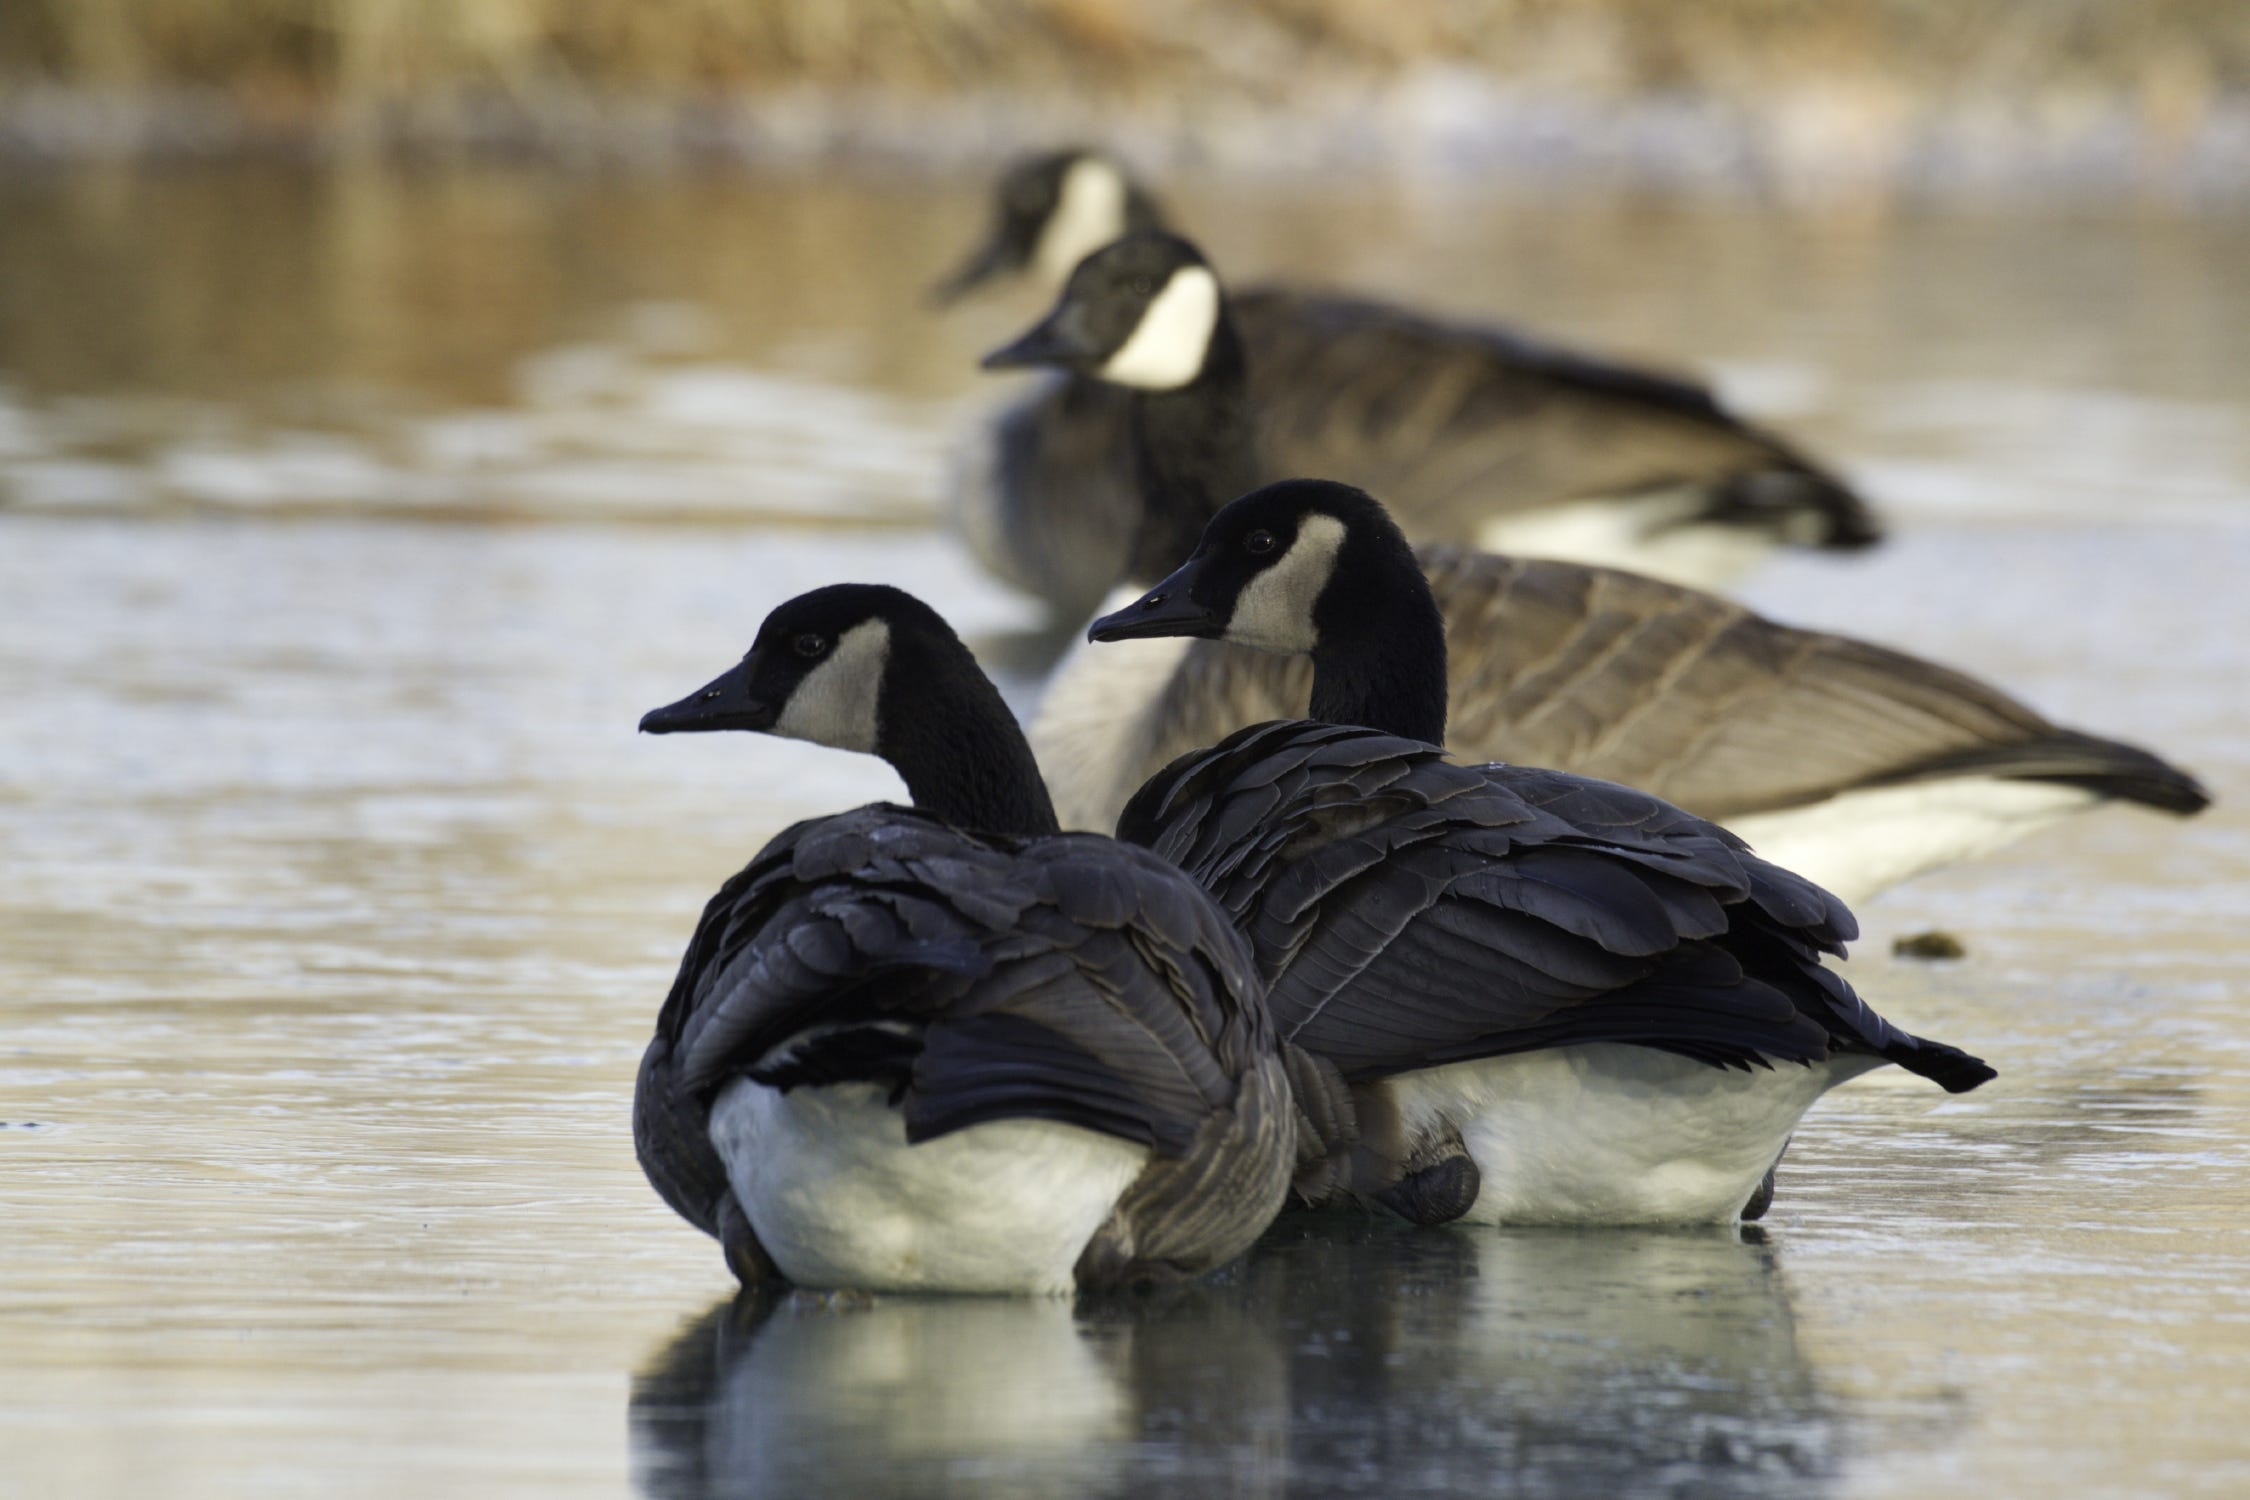goose: (979, 226, 2228, 959), (1080, 480, 1991, 1272), (619, 573, 1314, 1301), (934, 144, 1902, 613)
